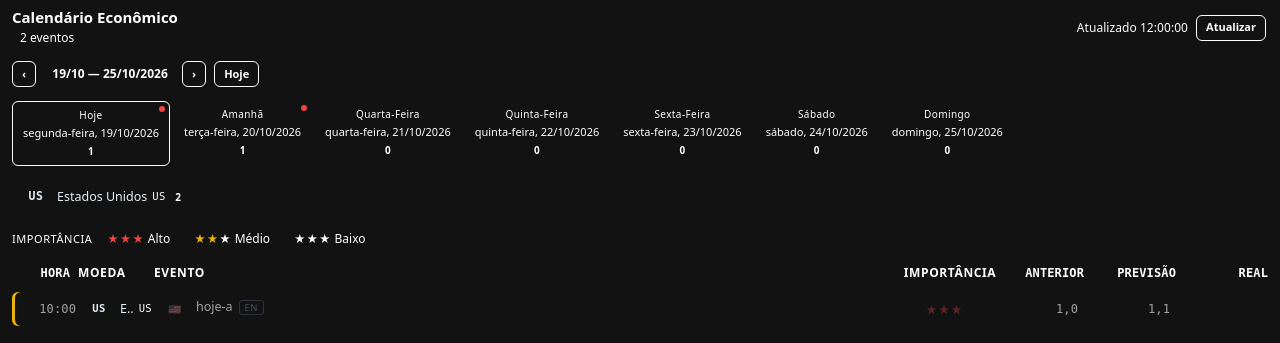
Test: EconomicCalendarTab — padrão MT5 › trocar de aba troca o dia da tabela
Expected: the number of buttons with class "cal-row" is 1, left=12, top=292, right=1268, bottom=326
Click the tab with class "cal-dia" that starts with "Amanhã".
click(243, 133)  # box left=174, top=101, right=311, bottom=166
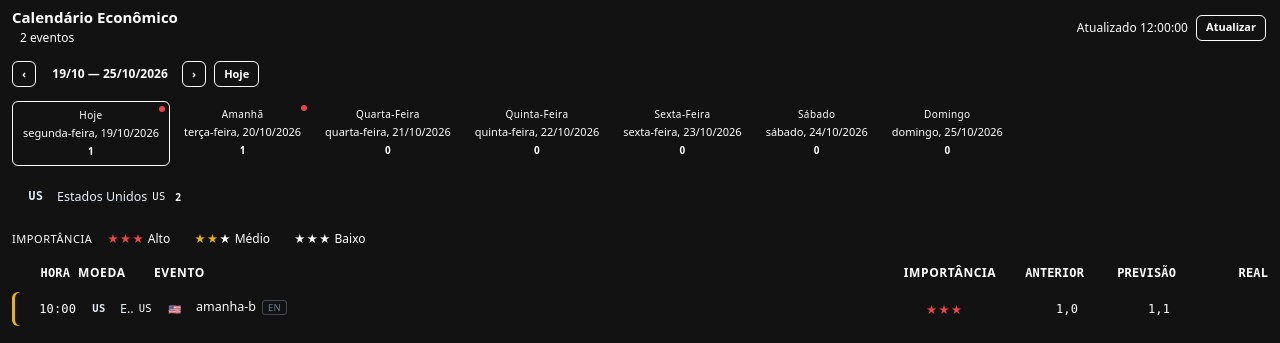
Expected: the button with class "cal-row" shows "amanha-b", left=12, top=292, right=1268, bottom=326
